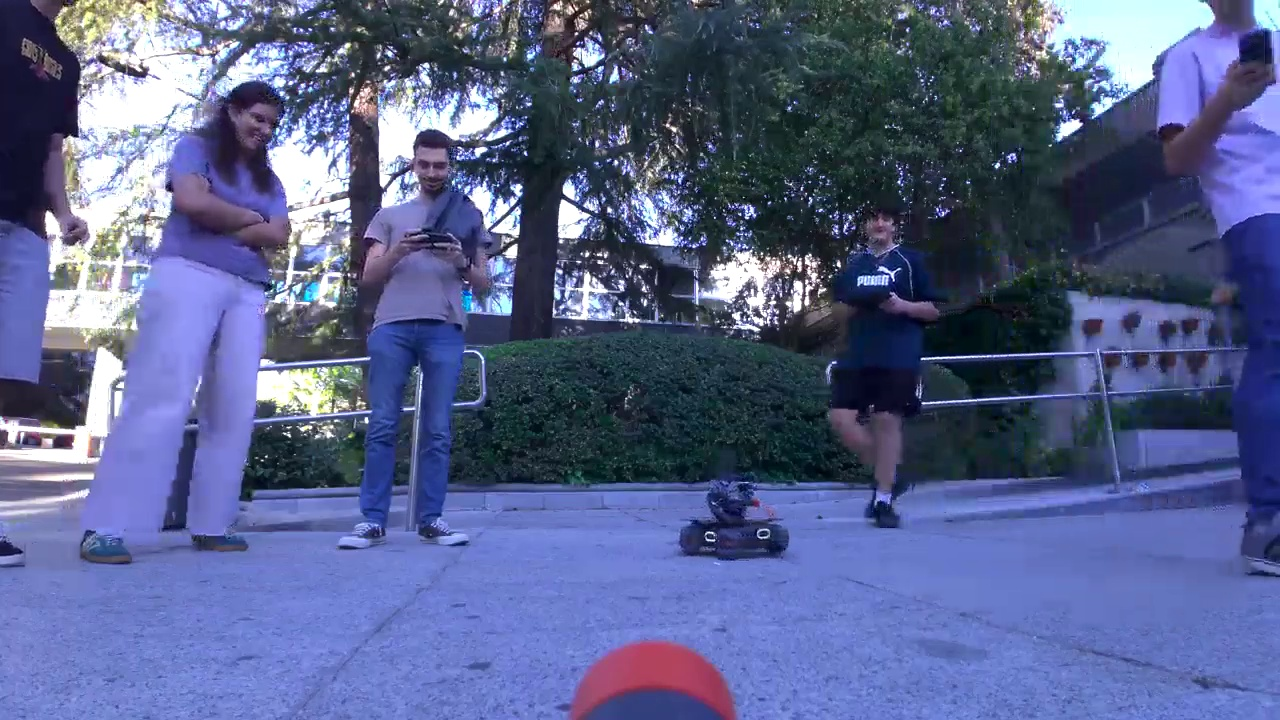robot: (675, 470, 790, 569)
